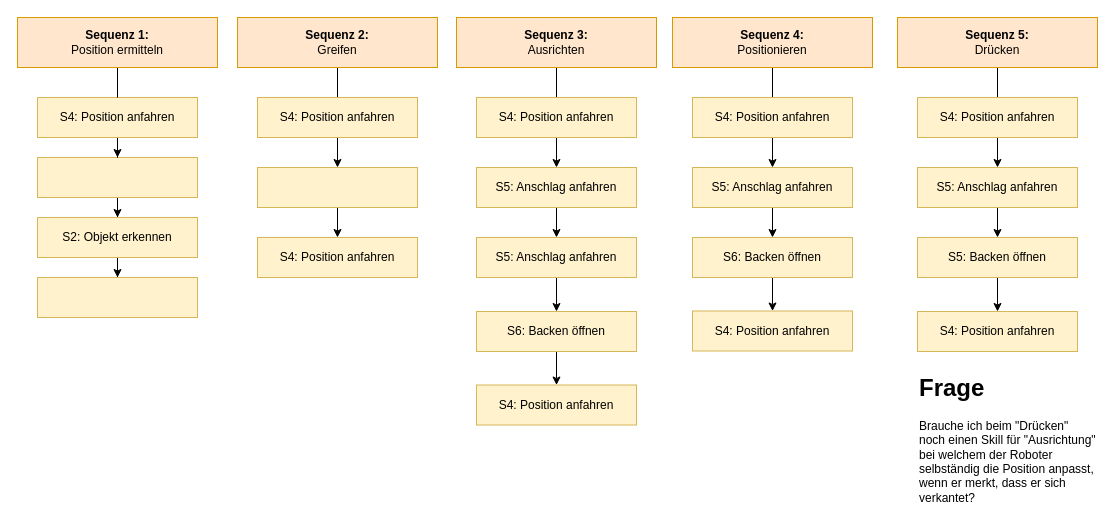
Some shapes in this 1115 by 528 pixel diagram are drawn without their labels. Here are the shapes that lost their labels. From the top down, the centre of each, then its label:
At point (117, 177): "S1: Bild aufnehmen".
At point (337, 187): "S7: Backen schliessen".
At point (117, 297): "S3: Position ermitteln".
